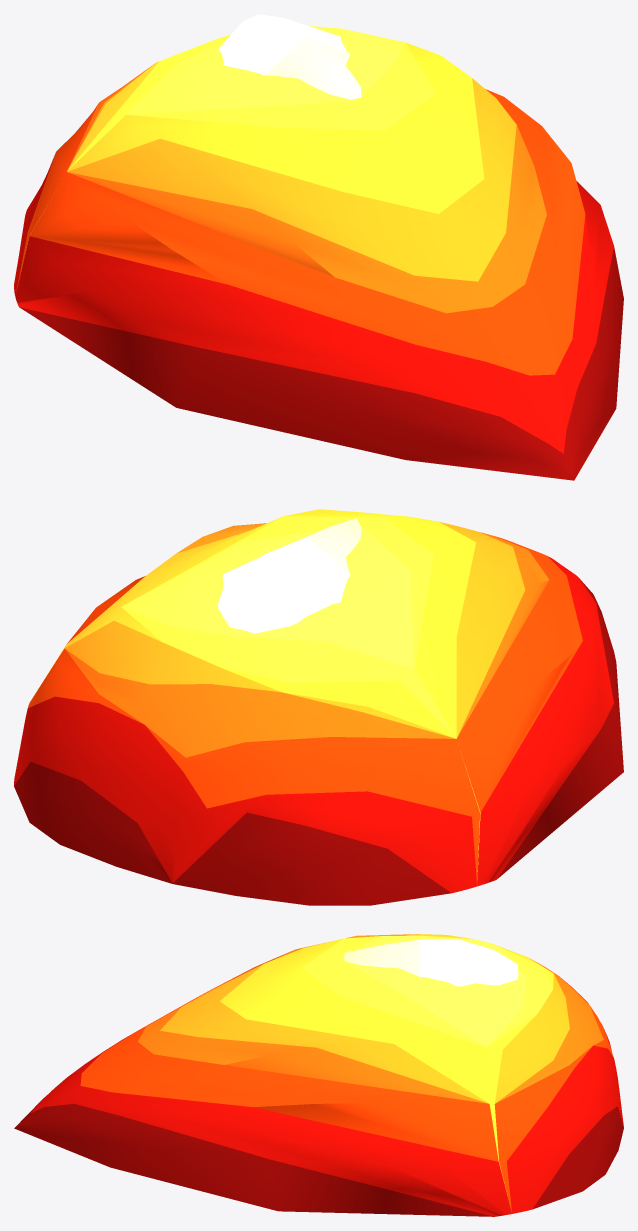
File: shot_fireball_comet_2.glb
3 views of the same model, one above another, from view 1: azimuth 30°, elevation 25°; view 2: azimuth 150°, elevation 25°; view 3: azimuth 270°, elevation 25° (orthographic). The views are drawn at different scales.
Visible parts, largest first — view 1: shot_fireball_comet_2_fire, shot_fireball_comet_2_core; view 2: shot_fireball_comet_2_fire, shot_fireball_comet_2_core; view 3: shot_fireball_comet_2_fire, shot_fireball_comet_2_core.
Part boxes in pixels (x1,y1,x2,y2): shot_fireball_comet_2_fire: (14, 26, 623, 480); shot_fireball_comet_2_core: (218, 14, 361, 99); shot_fireball_comet_2_fire: (14, 509, 623, 905); shot_fireball_comet_2_core: (218, 518, 361, 633); shot_fireball_comet_2_fire: (14, 934, 623, 1216); shot_fireball_comet_2_core: (344, 939, 518, 986).
Size of the model in its own units: 8.26 by 4.11 by 12.
